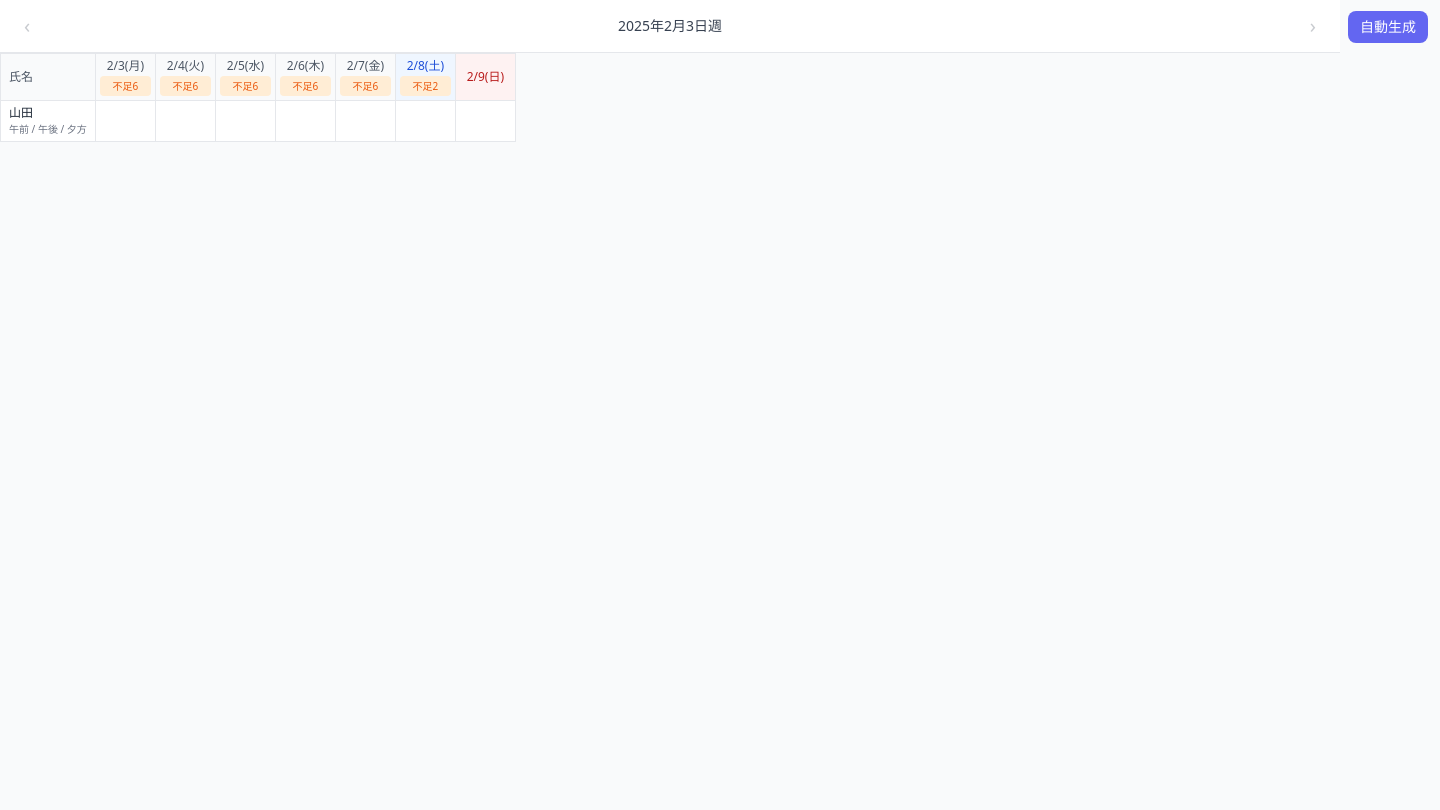
Scenario: ShiftPage - 最適化統合 › ローディング表示 › 自動生成承認後にローディングインジケーターが表示される
The width and height of the screenshot is (1440, 810).
Click the button "自動生成" at (1388, 26), box [1348,10,1428,42]
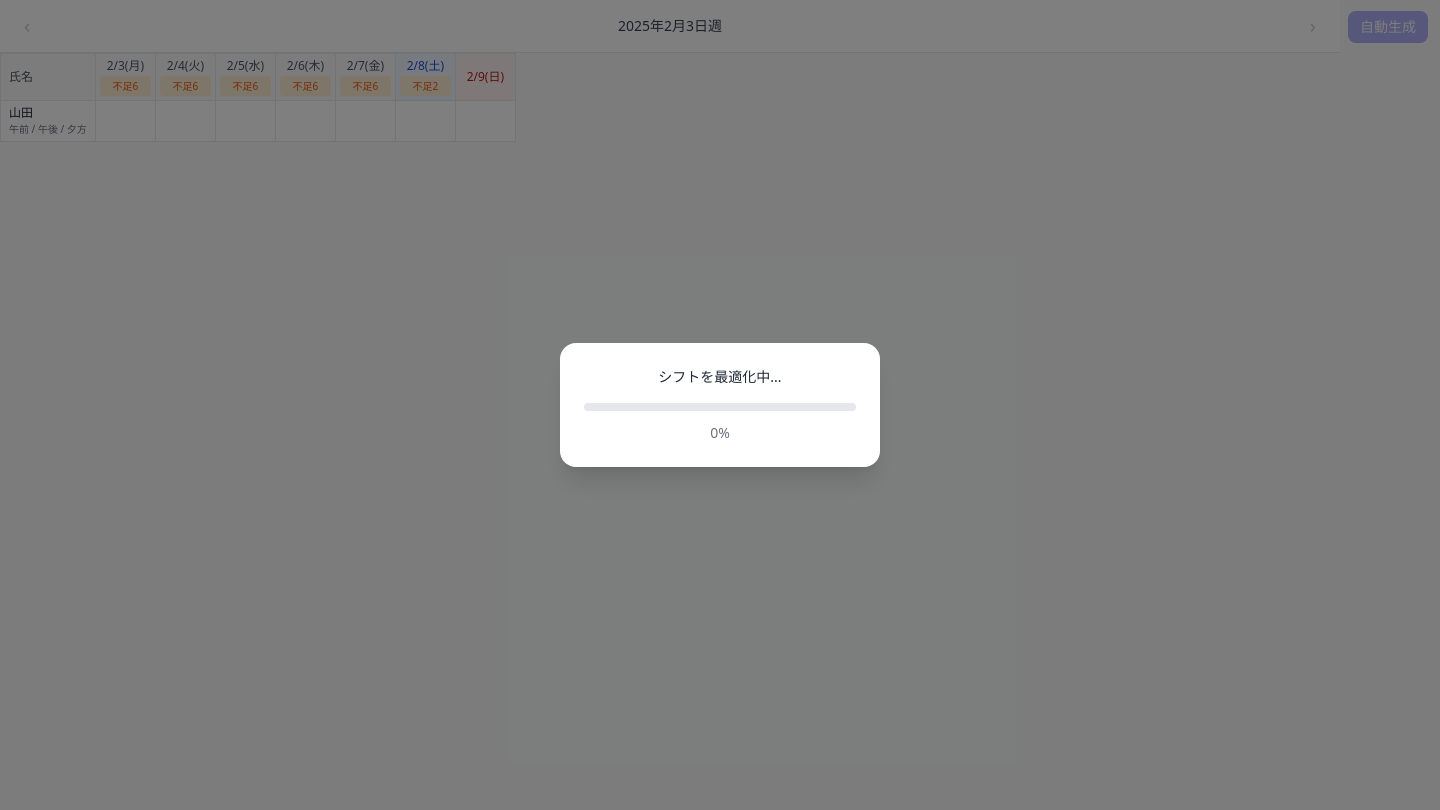
Result: the message "シフトを最適化中... 0%" is shown
